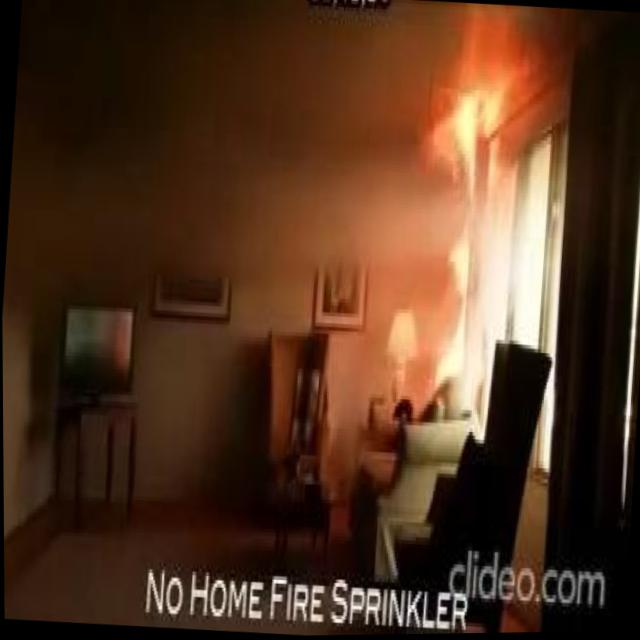fire: (420, 85, 484, 383), (438, 70, 503, 140)
